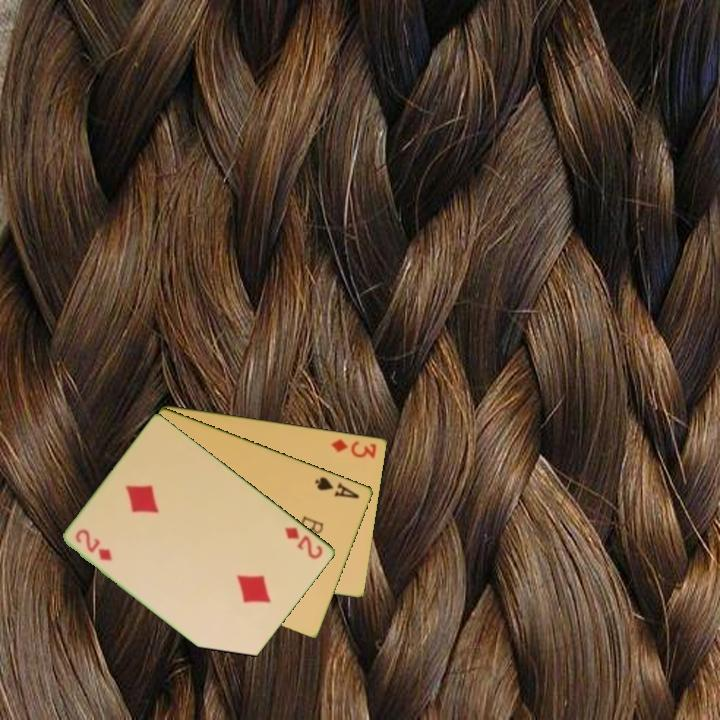2d: (281, 523, 326, 562), (72, 526, 116, 564)
3d: (328, 435, 379, 461)
As: (311, 473, 363, 502)
